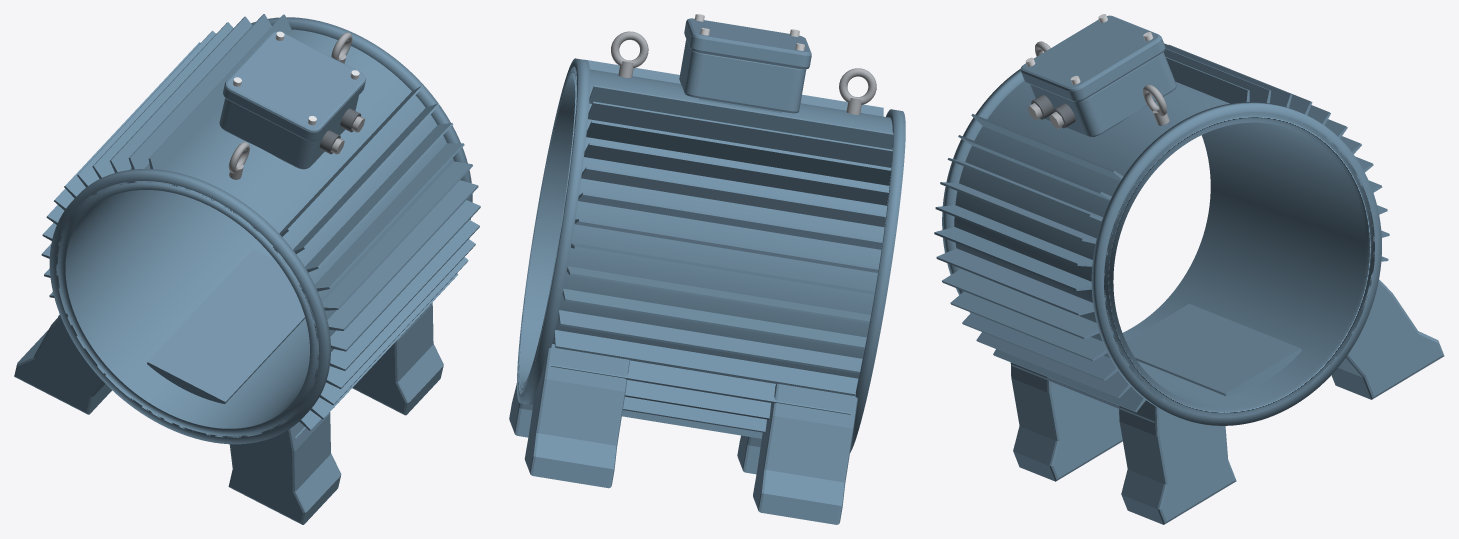
The model's file is induction_frame.glb.
3 views of the same model, side by side, from view 1: azimuth 30°, elevation 25°; view 2: azimuth 150°, elevation 25°; view 3: azimuth 270°, elevation 25° (orthographic). The views are drawn at different scales.
Bounding box in the file's own units: 1.21 × 1.38 × 1.4.
